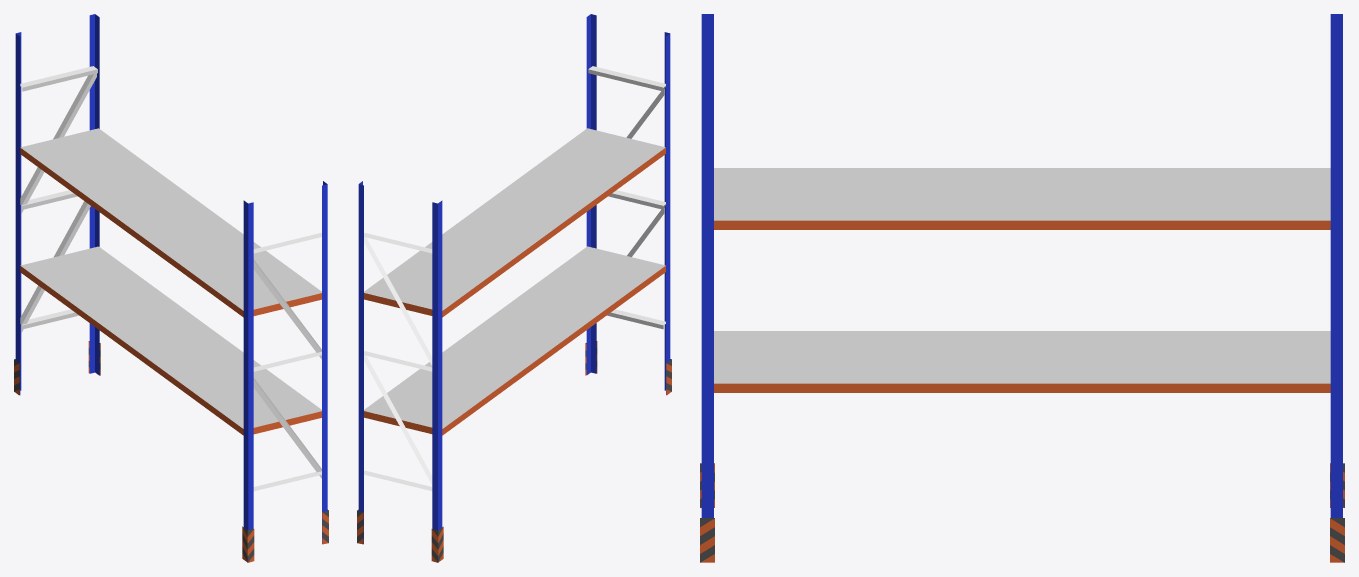
The model's file is container.obj.
3 views of the same model, side by side, from view 1: azimuth 30°, elevation 25°; view 2: azimuth 150°, elevation 25°; view 3: azimuth 270°, elevation 25° (orthographic). The views are drawn at different scales.
Visible parts, largest first — view 1: Box009, Box029, Box002, Box005, Box004, Box003, Box024, Box025, Box012, Box013, Box027, Box028 (+2 smaller); view 2: Box029, Box009, Box005, Box002, Box003, Box004, Box025, Box024, Box008, Box011, Box010, Box032; view 3: Box009, Box029, Box003, Box004.
Part boxes in pixels (left/top/right/bottom): Box009: left=20, top=246, right=321, bottom=435; Box029: left=20, top=128, right=321, bottom=317; Box002: left=243, top=200, right=253, bottom=529; Box005: left=15, top=32, right=21, bottom=394; Box004: left=89, top=14, right=99, bottom=375; Box003: left=322, top=181, right=327, bottom=543; Box024: left=20, top=73, right=96, bottom=212; Box025: left=20, top=201, right=90, bottom=332; Box012: left=253, top=378, right=321, bottom=478; Box013: left=253, top=259, right=321, bottom=359; Box027: left=20, top=66, right=97, bottom=91; Box028: left=22, top=309, right=78, bottom=329; Box029: left=364, top=128, right=665, bottom=317; Box009: left=364, top=246, right=665, bottom=435; Box005: left=432, top=200, right=442, bottom=530; Box002: left=664, top=32, right=670, bottom=394; Box003: left=586, top=14, right=596, bottom=375; Box004: left=358, top=181, right=363, bottom=543; Box025: left=364, top=355, right=432, bottom=484; Box024: left=364, top=237, right=432, bottom=365; Box008: left=588, top=66, right=665, bottom=91; Box011: left=607, top=309, right=665, bottom=329; Box010: left=608, top=190, right=665, bottom=209; Box032: left=431, top=526, right=443, bottom=562; Box009: left=714, top=331, right=1330, bottom=392; Box029: left=714, top=168, right=1330, bottom=229; Box003: left=701, top=67, right=713, bottom=517; Box004: left=1330, top=67, right=1342, bottom=517.
Size of the model in its own units: 94.74 by 400 by 472.
